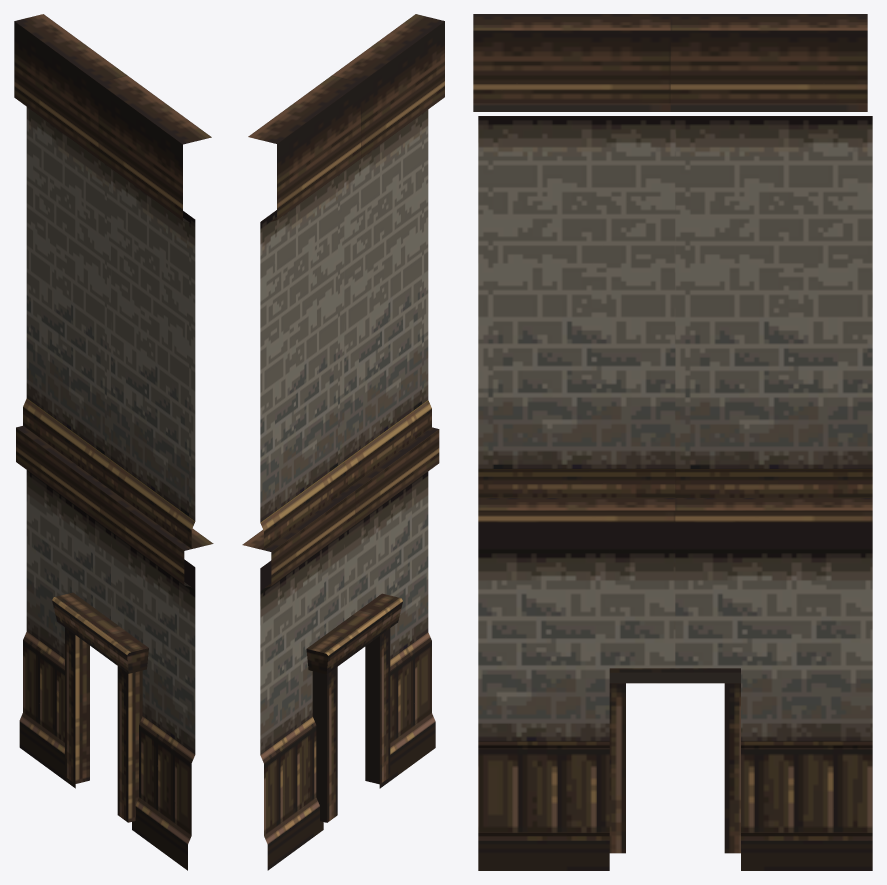
The model's file is EnvBdgMD_Wilderness_A_Indoor_B_Wall_1F.FBX.
3 renders of one model, left to right at view 1: azimuth 30°, elevation 25°; view 2: azimuth 150°, elevation 25°; view 3: azimuth 270°, elevation 25°, orthographic. The views are drawn at different scales.
Parts seen in each view (by area): view 1: EnvBdgMD_Wilderness_A_Indoor_B_Wall_1F; view 2: EnvBdgMD_Wilderness_A_Indoor_B_Wall_1F; view 3: EnvBdgMD_Wilderness_A_Indoor_B_Wall_1F.
Part boxes in pixels (bbox=[...]): EnvBdgMD_Wilderness_A_Indoor_B_Wall_1F: bbox=[14, 14, 213, 870]; EnvBdgMD_Wilderness_A_Indoor_B_Wall_1F: bbox=[242, 14, 444, 870]; EnvBdgMD_Wilderness_A_Indoor_B_Wall_1F: bbox=[473, 14, 872, 870].
Size of the model in its own units: 54.51 by 955 by 405.
Materials: 1 (1 with a texture image).
